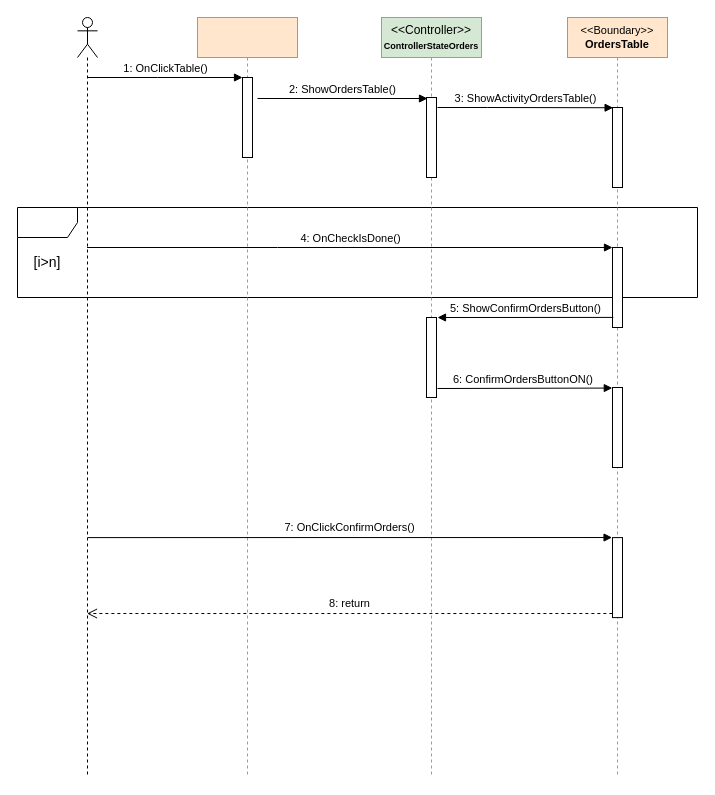
The diagram is 715 pixels wide and 795 high, and some of its shapes have lost their labels. Here are the shapes that lost their labels. From the top down, the box of each, then its label:
(16, 206, 698, 298): LOOP
(196, 16, 298, 778): <<Boundary>> ListTables
